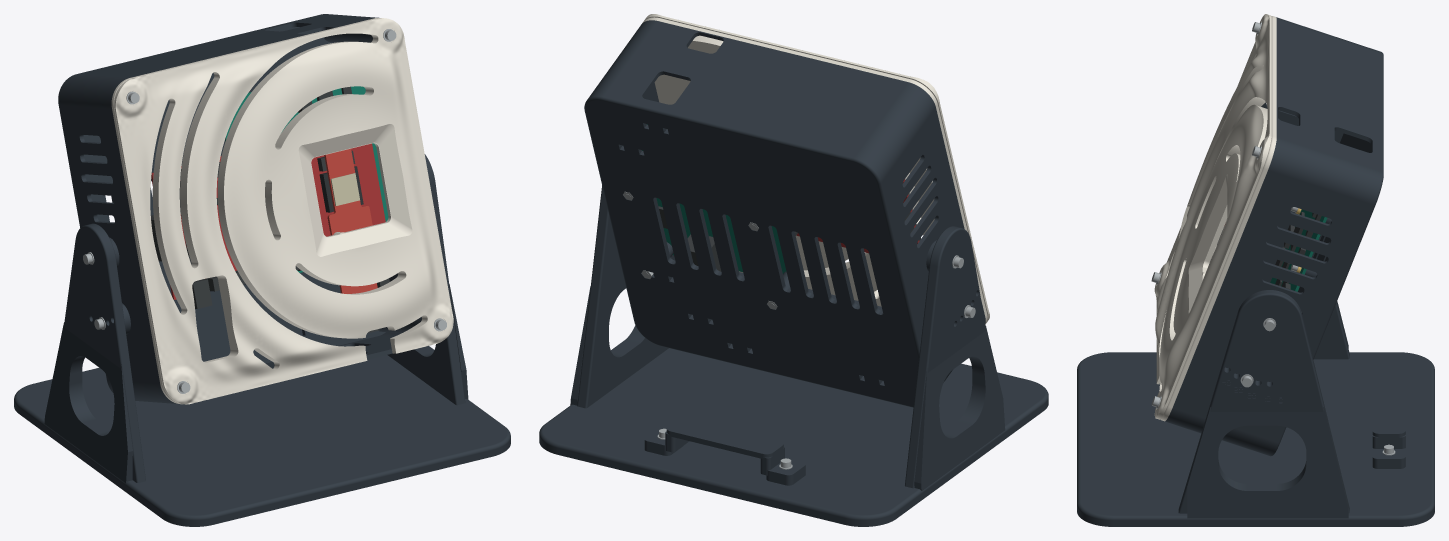
Rendered from assembly_20_degrees.glb.
3 renders of one model, left to right at view 1: azimuth 30°, elevation 25°; view 2: azimuth 150°, elevation 25°; view 3: azimuth 270°, elevation 25°, orthographic. The views are drawn at different scales.
Visible parts, largest first — view 1: sculpted_water_ripple_cover, table_base_0_10_20_30_40_degrees, rear_shell, front_bezel_open_radar, PCB_ICBOOST_PROC074B, PCB_AOP_PROC091G, AOP_8_U2, PCB_DCA1000_PROC048A; view 2: rear_shell, table_base_0_10_20_30_40_degrees, front_bezel_open_radar, removable_rear_cable_guide, sculpted_water_ripple_cover, PCB_DCA1000_PROC048A; view 3: table_base_0_10_20_30_40_degrees, rear_shell, sculpted_water_ripple_cover, front_bezel_open_radar, removable_rear_cable_guide, PCB_DCA1000_PROC048A.
Boxes of the visible parts, bbox=[...] form: sculpted_water_ripple_cover: bbox=[114, 18, 453, 404]; table_base_0_10_20_30_40_degrees: bbox=[14, 154, 510, 526]; rear_shell: bbox=[58, 14, 421, 403]; front_bezel_open_radar: bbox=[111, 18, 424, 404]; PCB_ICBOOST_PROC074B: bbox=[151, 143, 385, 299]; PCB_AOP_PROC091G: bbox=[324, 148, 377, 293]; AOP_8_U2: bbox=[330, 173, 359, 205]; PCB_DCA1000_PROC048A: bbox=[225, 86, 388, 272]; rear_shell: bbox=[584, 20, 985, 407]; table_base_0_10_20_30_40_degrees: bbox=[539, 185, 1048, 526]; front_bezel_open_radar: bbox=[642, 17, 987, 324]; removable_rear_cable_guide: bbox=[644, 418, 805, 480]; sculpted_water_ripple_cover: bbox=[644, 14, 989, 322]; PCB_DCA1000_PROC048A: bbox=[642, 124, 786, 273]; table_base_0_10_20_30_40_degrees: bbox=[1077, 290, 1434, 526]; rear_shell: bbox=[1165, 17, 1383, 456]; sculpted_water_ripple_cover: bbox=[1154, 14, 1271, 419]; front_bezel_open_radar: bbox=[1159, 16, 1276, 421]; removable_rear_cable_guide: bbox=[1372, 384, 1405, 463]; PCB_DCA1000_PROC048A: bbox=[1270, 209, 1327, 291].
Size of the model in its own units: 0.214 by 0.2212 by 0.195.
